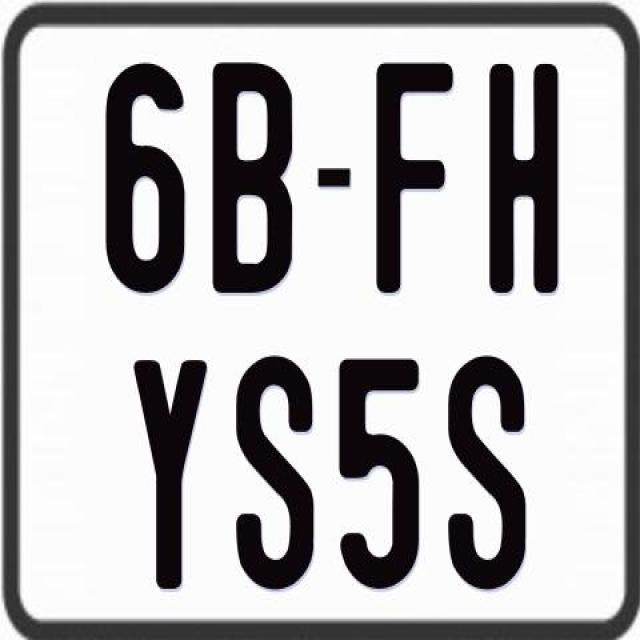5: (338, 355, 418, 586)
6: (105, 61, 191, 294)
B: (212, 58, 299, 292)
F: (376, 59, 454, 296)
H: (489, 61, 562, 290)
S: (233, 353, 316, 592), (444, 352, 524, 589)
Y: (134, 360, 210, 592)
